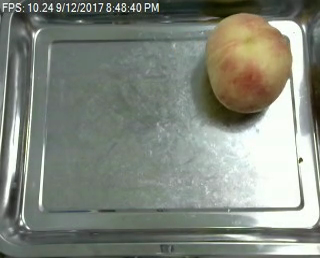Peach: (205, 11, 291, 114)
